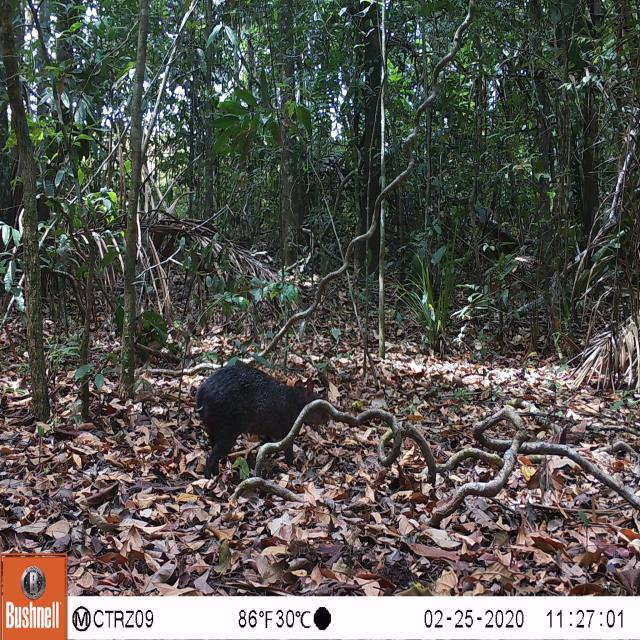Black Agouti: (179, 343, 343, 488)
